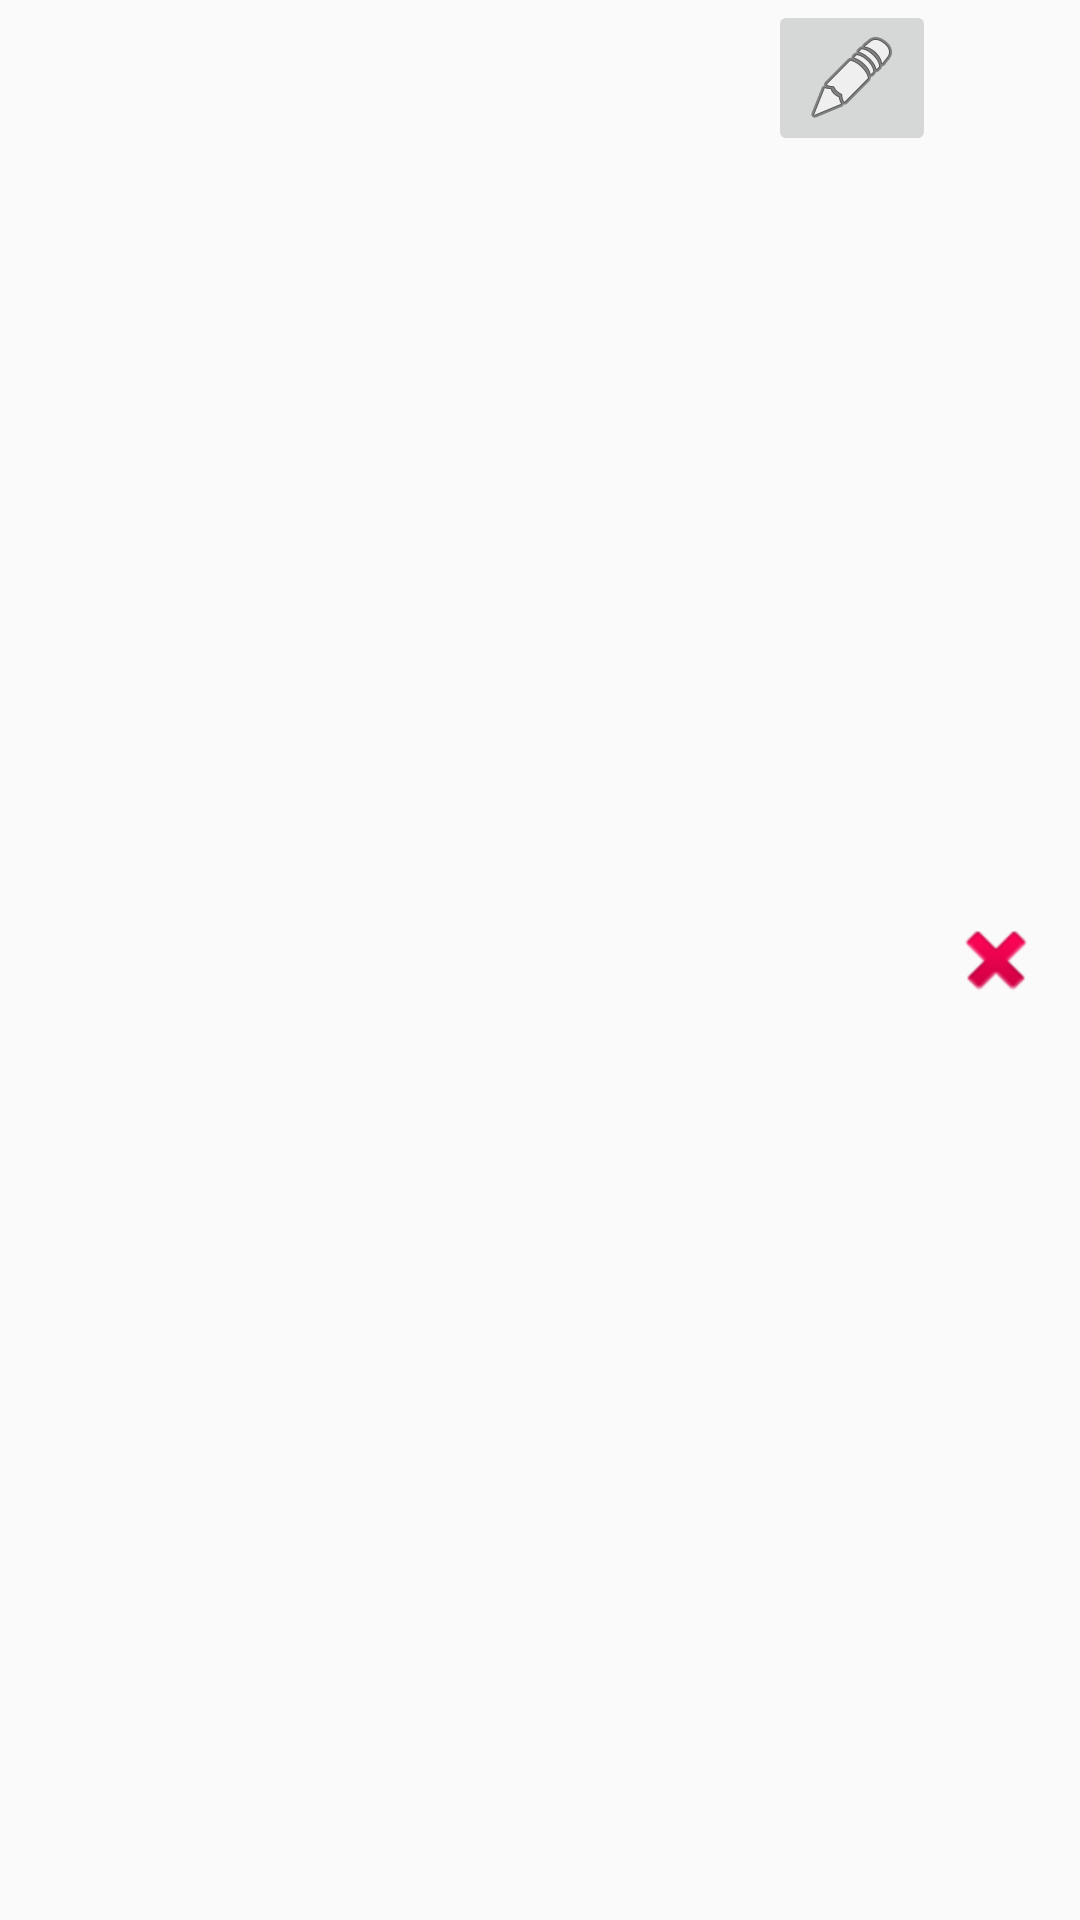

Icons on this 1080px×1920px Android screen, each with its box as Rect(x1, y1, x2, y2):
delete: Rect(965, 931, 1027, 990)
edit: Rect(780, 18, 924, 138)
